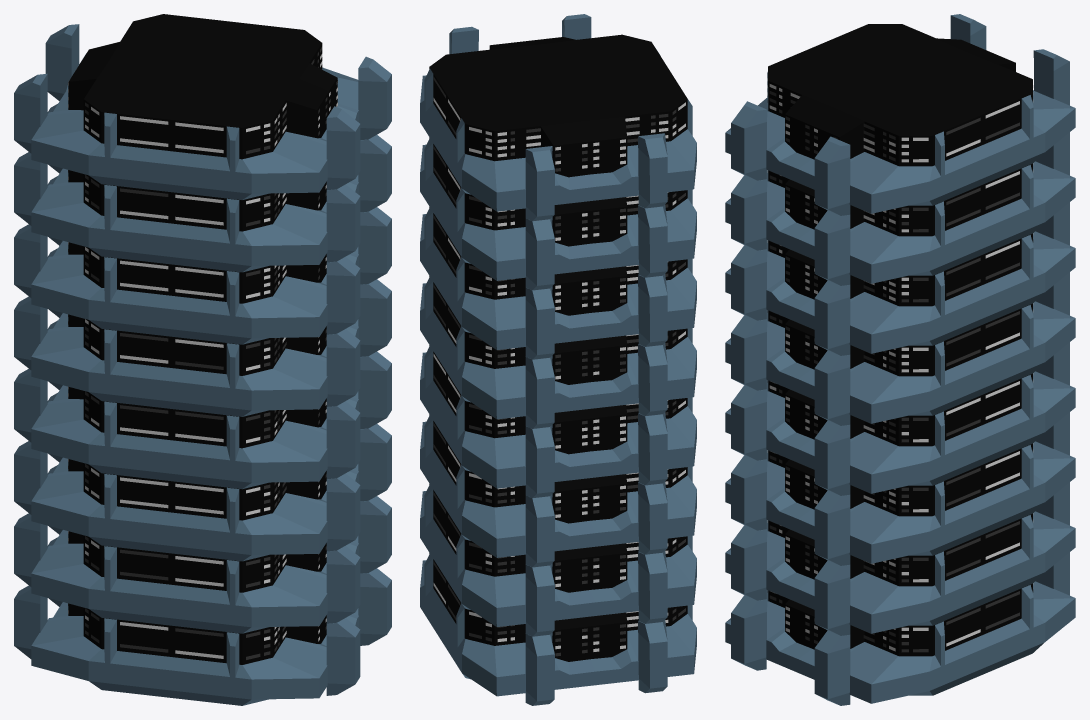
The model's file is building_028.glb.
3 renders of one model, left to right at view 1: azimuth 30°, elevation 25°; view 2: azimuth 150°, elevation 25°; view 3: azimuth 270°, elevation 25°, orthographic. The views are drawn at different scales.
Visible parts, largest first — view 1: building.028; view 2: building.028; view 3: building.028.
Boxes of the visible parts, x1,y1,x2,y2 form: building.028: (14,14,391,705); building.028: (420,14,696,705); building.028: (725,14,1075,705).
Bounding box in the file's own units: 5.02 × 8.85 × 5.02.
